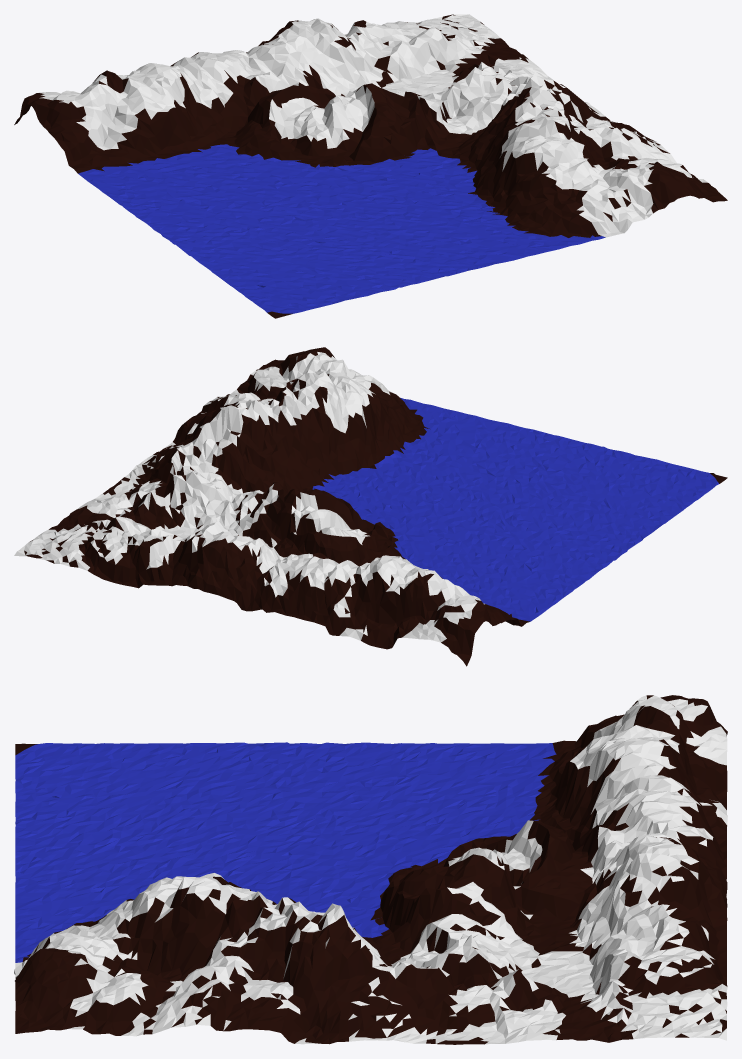
The model's file is fourth 1.fbx.
3 views of the same model, one above another, from view 1: azimuth 30°, elevation 25°; view 2: azimuth 150°, elevation 25°; view 3: azimuth 270°, elevation 25° (orthographic). The views are drawn at different scales.
Visible parts, largest first — view 1: Fifth; view 2: Fifth; view 3: Fifth.
Boxes of the visible parts, box(x1,y1,x2,y2) form: Fifth: box(14, 14, 727, 318); Fifth: box(14, 347, 727, 666); Fifth: box(14, 695, 727, 1044).
Size of the model in its own units: 50083 by 7327 by 50172.
